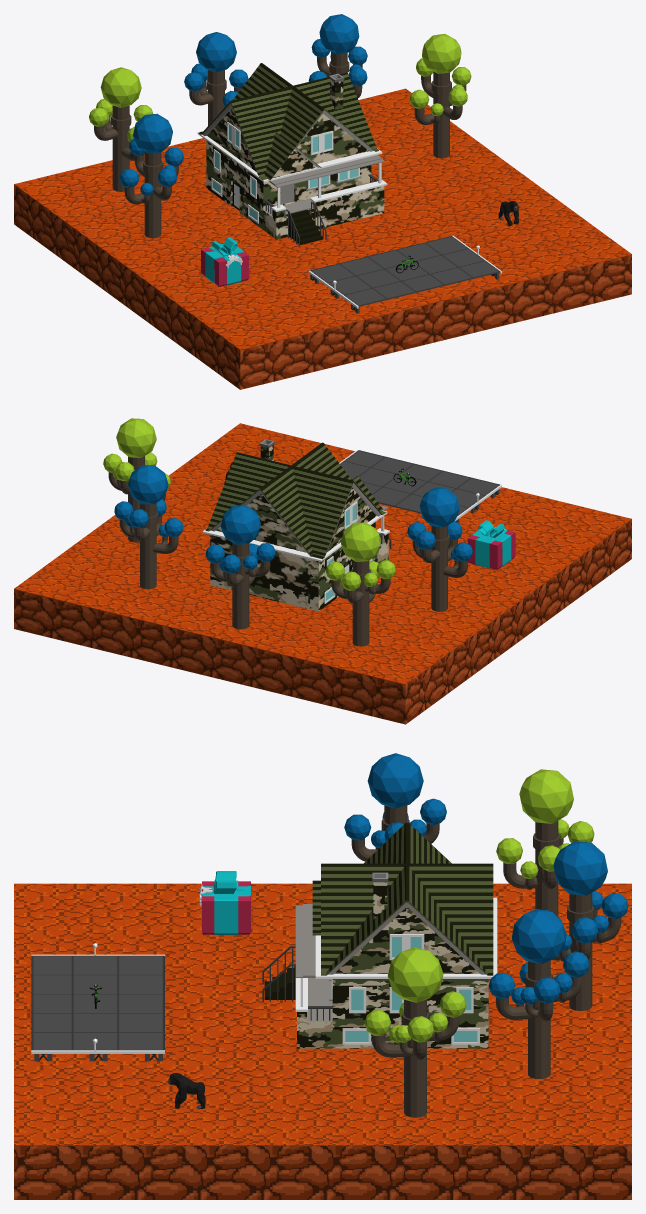
The picture shows the model from 3 angles, top to bottom: view 1: azimuth 30°, elevation 25°; view 2: azimuth 150°, elevation 25°; view 3: azimuth 270°, elevation 25°; orthographic projection. The views are drawn at different scales.
Parts seen in each view (by area): view 1: Cube.001, Cube.002, OBJRANDOM_GIANT_PRESENT; view 2: Cube.001, Cube.002, OBJRANDOM_GIANT_PRESENT; view 3: Cube.001, Cube.002, OBJRANDOM_GIANT_PRESENT, ANIMAL_GORILA.
Part boxes in pixels (x1,y1,x2,y2): Cube.001: [14, 14, 631, 389]; Cube.002: [197, 63, 387, 246]; OBJRANDOM_GIANT_PRESENT: [201, 237, 248, 286]; Cube.001: [14, 418, 631, 724]; Cube.002: [202, 439, 391, 611]; OBJRANDOM_GIANT_PRESENT: [467, 520, 515, 569]; Cube.001: [14, 753, 631, 1199]; Cube.002: [262, 822, 497, 1048]; OBJRANDOM_GIANT_PRESENT: [199, 871, 251, 934]; ANIMAL_GORILA: [168, 1073, 205, 1109].
Size of the model in its own units: 4000 by 1765 by 4000.
30 materials, 6 textured.
